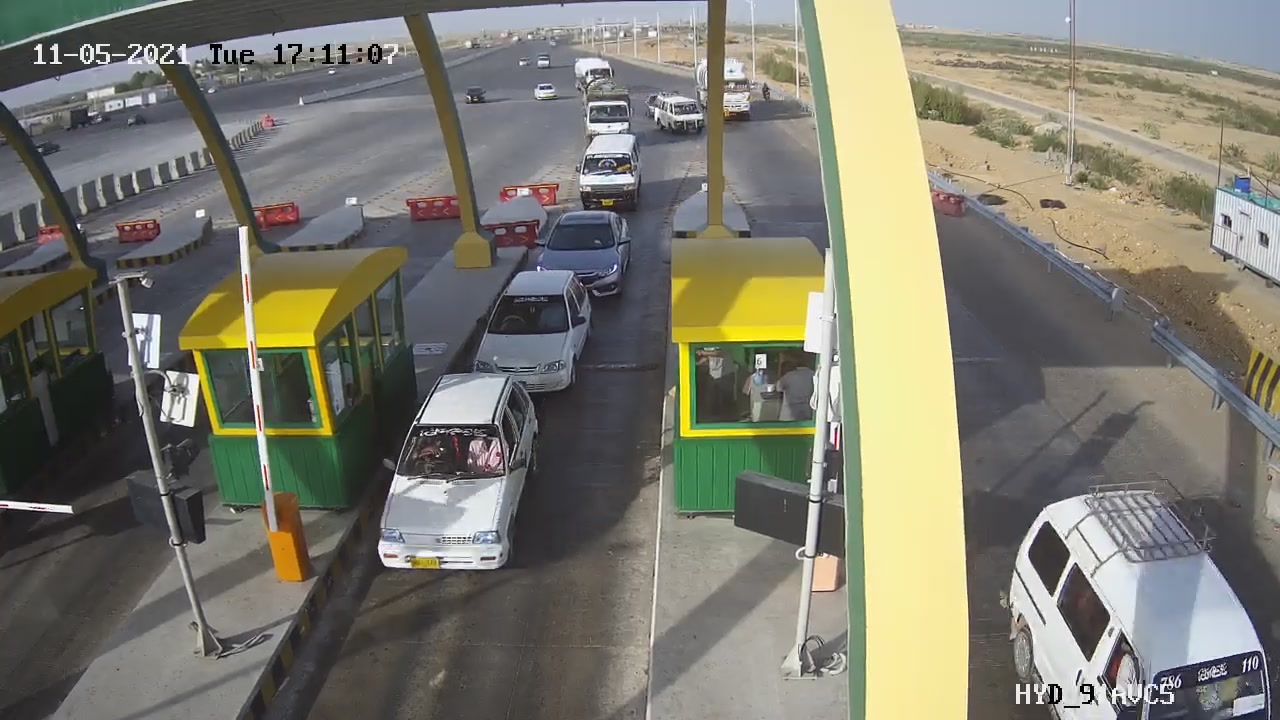F1: (353, 360, 557, 587), (455, 259, 611, 409)
